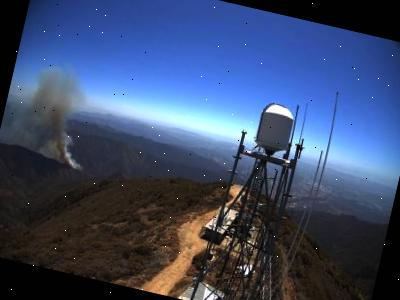smoke: (0, 56, 104, 174)
